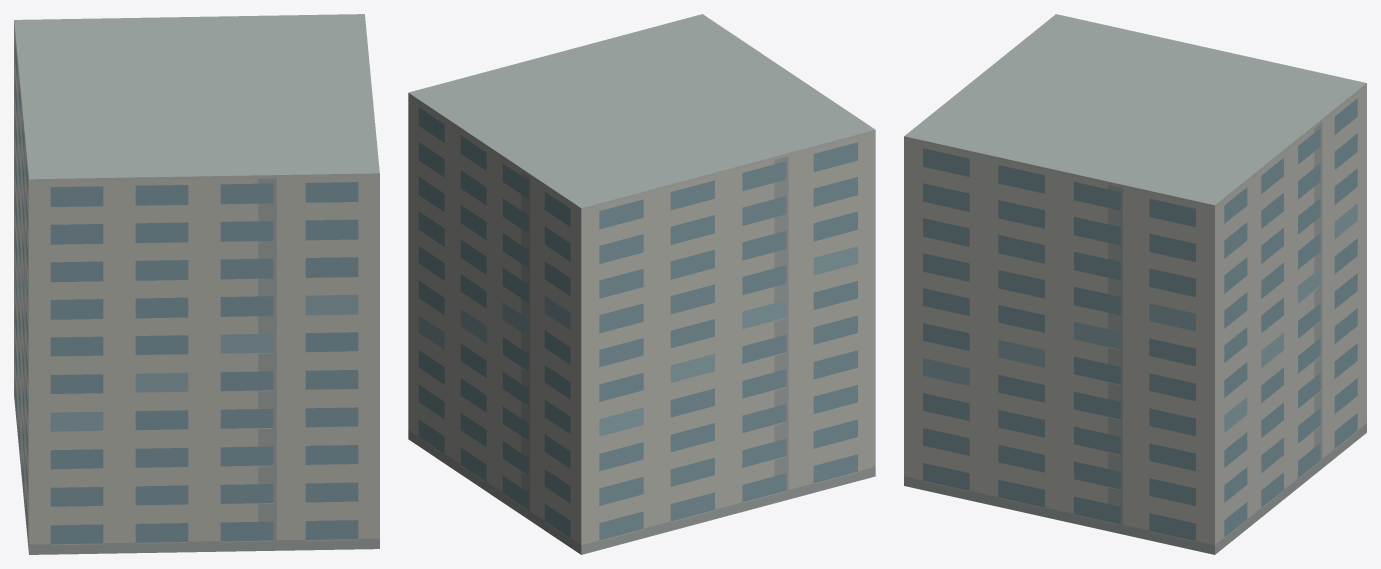
Rendered from residential-de728d67-aac5-4bd7-84ec-4ab742d9df82.glb.
The picture shows the model from 3 angles, left to right: view 1: azimuth 30°, elevation 25°; view 2: azimuth 150°, elevation 25°; view 3: azimuth 270°, elevation 25°; orthographic projection. The views are drawn at different scales.
Visible parts, largest first — view 1: residential-de728d67-aac5-4bd7-84ec-4ab742d9df82.tmp; view 2: residential-de728d67-aac5-4bd7-84ec-4ab742d9df82.tmp; view 3: residential-de728d67-aac5-4bd7-84ec-4ab742d9df82.tmp.
Boxes of the visible parts, x1,y1,x2,y2 form: residential-de728d67-aac5-4bd7-84ec-4ab742d9df82.tmp: (14,14,379,554); residential-de728d67-aac5-4bd7-84ec-4ab742d9df82.tmp: (408,14,875,554); residential-de728d67-aac5-4bd7-84ec-4ab742d9df82.tmp: (904,14,1366,554).
Size of the model in its own units: 31.69 by 27 by 32.39.
